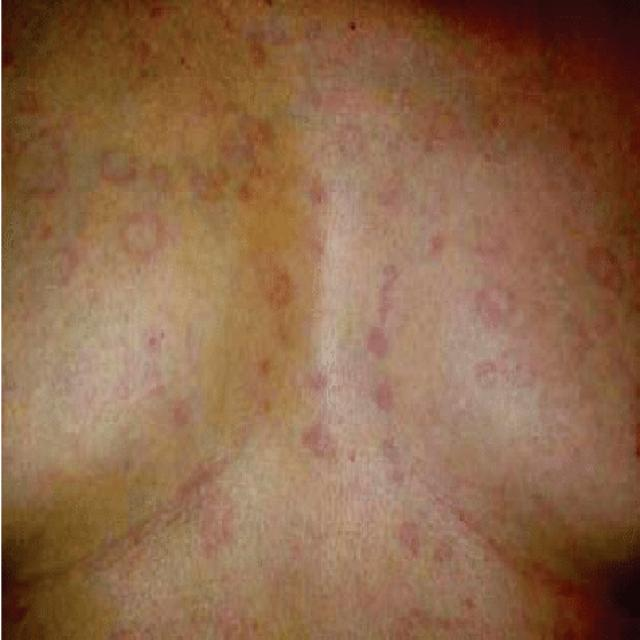Erythema marginatum: (35, 102, 314, 336)
